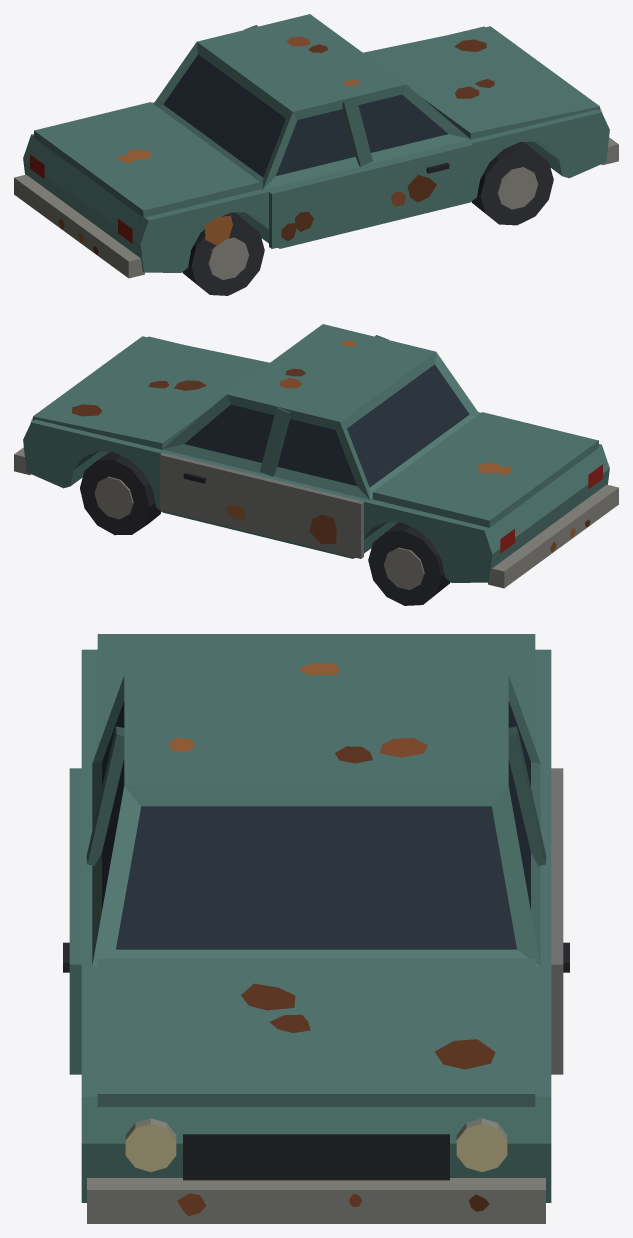
File: break_car.glb
The picture shows the model from 3 angles, top to bottom: view 1: azimuth 30°, elevation 25°; view 2: azimuth 150°, elevation 25°; view 3: azimuth 270°, elevation 25°; orthographic projection. The views are drawn at different scales.
Visible parts, largest first — view 1: Piece2, Piece1, Piece4, Piece3, Piece6, Piece10, Piece12, Piece8; view 2: Piece2, Piece1, Piece4, Piece3, Piece5, Piece11, Piece9, Piece8; view 3: Piece2, Piece3, Piece1, Piece7, Piece4, Piece5, Piece6.
Boxes of the visible parts, x1,y1,x2,y2 form: Piece2: (153, 14, 470, 189); Piece1: (23, 26, 609, 272); Piece4: (34, 102, 260, 217); Piece3: (363, 26, 599, 139); Piece6: (269, 143, 472, 248); Piece10: (471, 142, 553, 225); Piece12: (182, 212, 264, 295); Piece8: (14, 174, 144, 278); Piece2: (162, 324, 479, 499); Piece1: (23, 336, 609, 582); Piece4: (372, 412, 598, 527); Piece3: (33, 336, 269, 449); Piece5: (160, 453, 363, 558); Piece11: (368, 522, 450, 605); Piece9: (80, 452, 161, 535); Piece8: (488, 484, 618, 588); Piece2: (86, 675, 546, 966); Piece3: (97, 958, 535, 1106); Piece1: (81, 649, 551, 1202); Piece7: (87, 1178, 545, 1223); Piece4: (97, 634, 535, 747); Piece5: (551, 768, 569, 1074); Piece6: (63, 768, 81, 1074).
Bounding box in the file's own units: 4.25 × 1.33 × 1.9.
